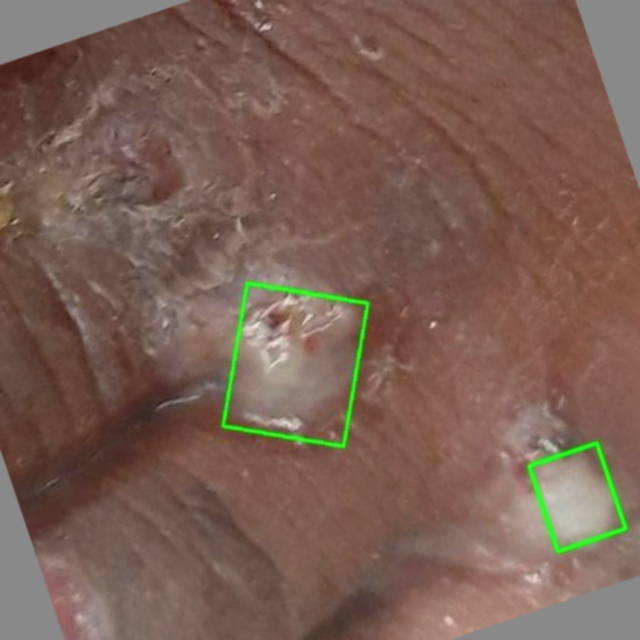Eczema: (223, 282, 368, 445), (529, 443, 625, 551)
